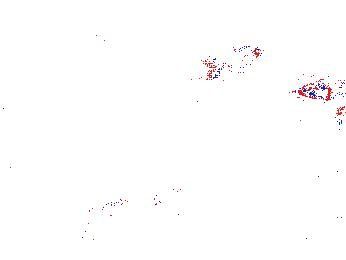glassfish: (70, 183, 183, 228), (297, 75, 346, 101)
red belly glassfish: (332, 104, 346, 125)
redtail glassfish: (204, 43, 266, 83)
